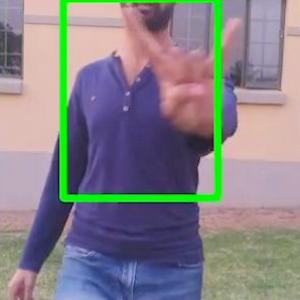takeoff-hand: (122, 0, 250, 148)
